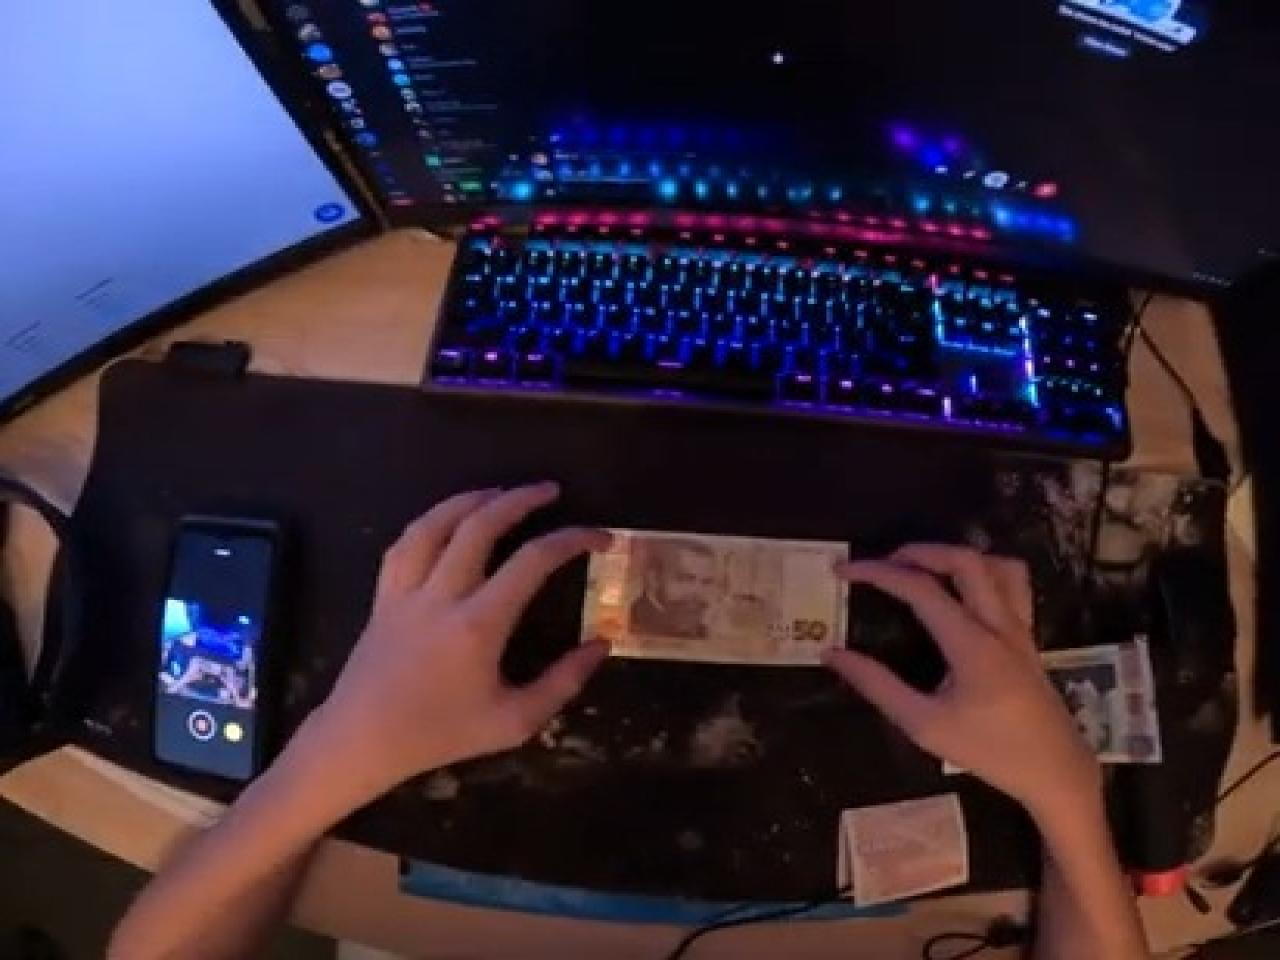50leva: (581, 530, 845, 670)
